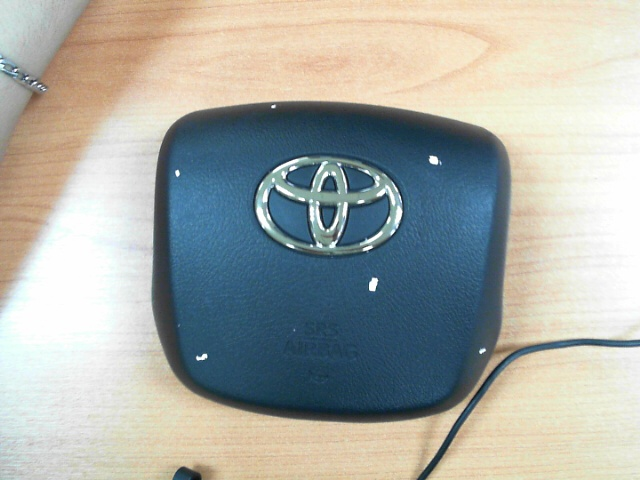Airbag: (428, 154, 442, 167), (368, 277, 379, 292), (196, 353, 209, 362), (174, 168, 181, 178), (479, 347, 487, 355), (270, 103, 277, 110)
